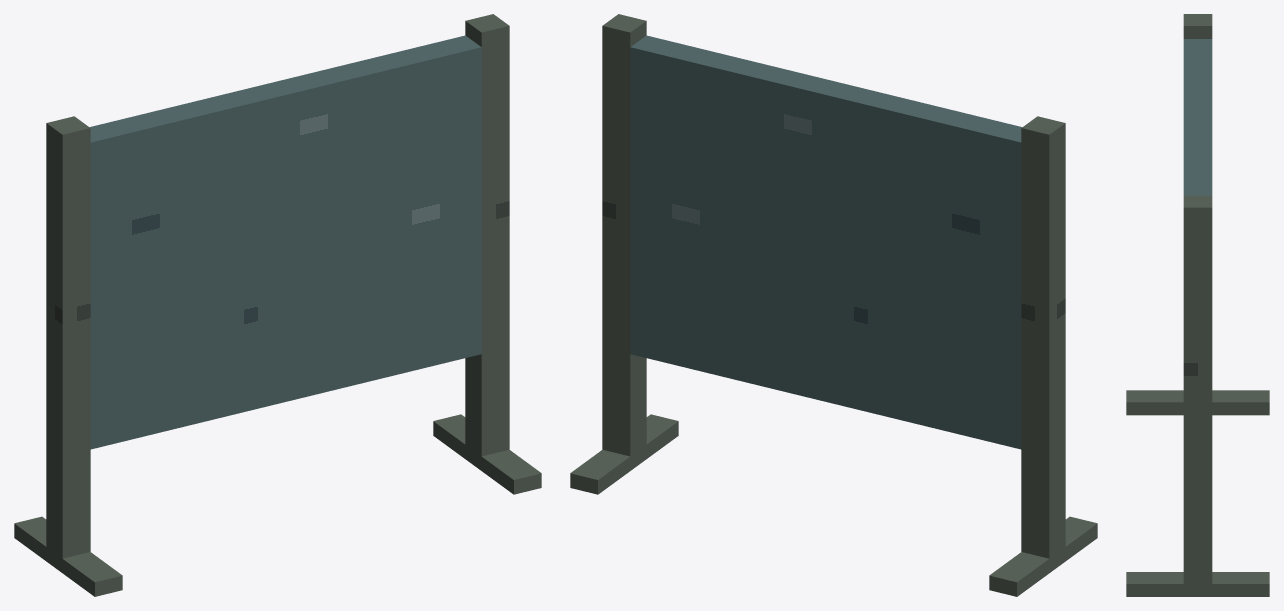
Rendered from privacy_screen.gltf.
3 views of the same model, side by side, from view 1: azimuth 30°, elevation 25°; view 2: azimuth 150°, elevation 25°; view 3: azimuth 270°, elevation 25° (orthographic). The views are drawn at different scales.
Parts seen in each view (by area): view 1: curtain, post (×2), stand (×2); view 2: curtain, post (×2), stand (×2); view 3: post (×2), stand (×2), curtain.
Part boxes in pixels (bbox=[...]): curtain: bbox=[89, 35, 481, 449]; post (×2): bbox=[46, 14, 509, 572]; stand (×2): bbox=[14, 414, 541, 596]; curtain: bbox=[630, 35, 1022, 449]; post (×2): bbox=[602, 14, 1065, 572]; stand (×2): bbox=[570, 414, 1097, 596]; post (×2): bbox=[1183, 14, 1212, 596]; stand (×2): bbox=[1126, 390, 1269, 596]; curtain: bbox=[1183, 39, 1212, 195].
Bounding box in the file's own units: 2 × 1.88 × 0.625.
Materials: 2 (2 with a texture image).
